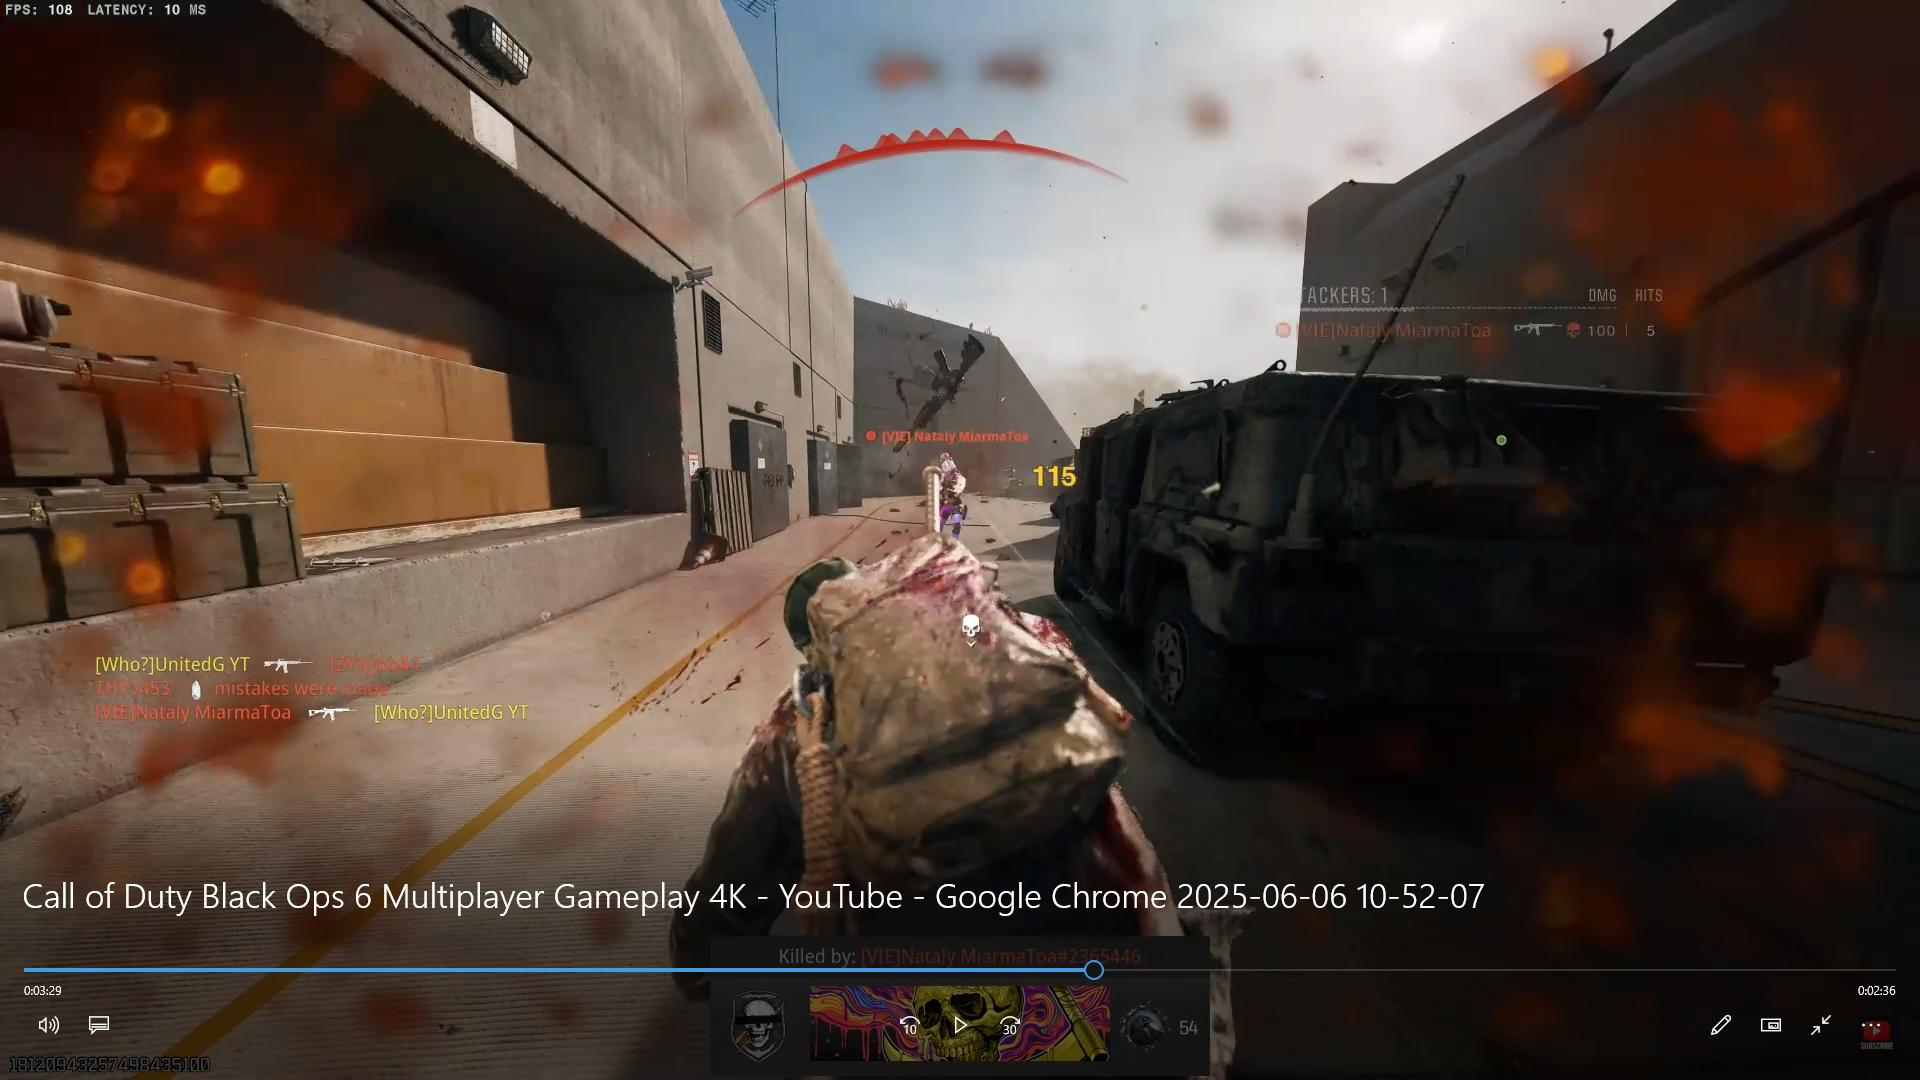Enemy: (893, 410, 1004, 501)
